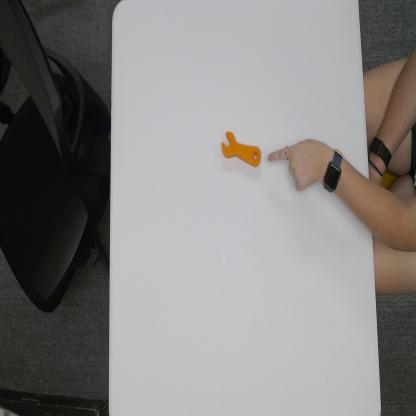Arm: (345, 154, 412, 255)
Hand: (266, 132, 322, 194)
Screwdriver: (219, 126, 263, 172)
